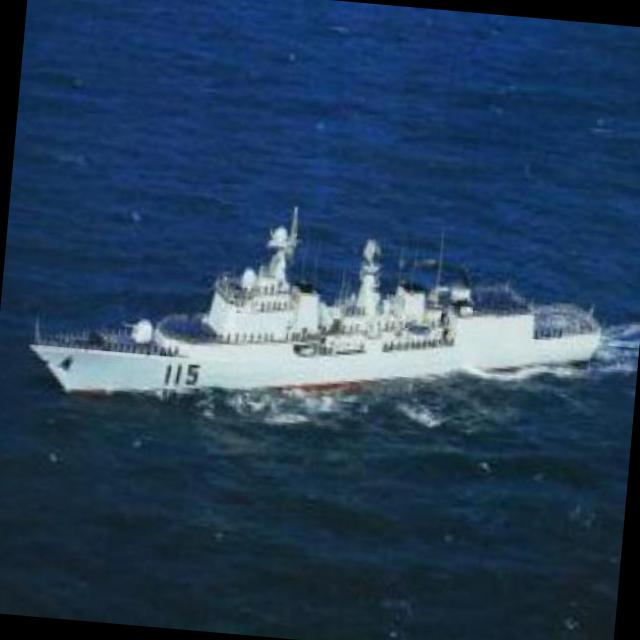boat: (16, 242, 615, 396)
